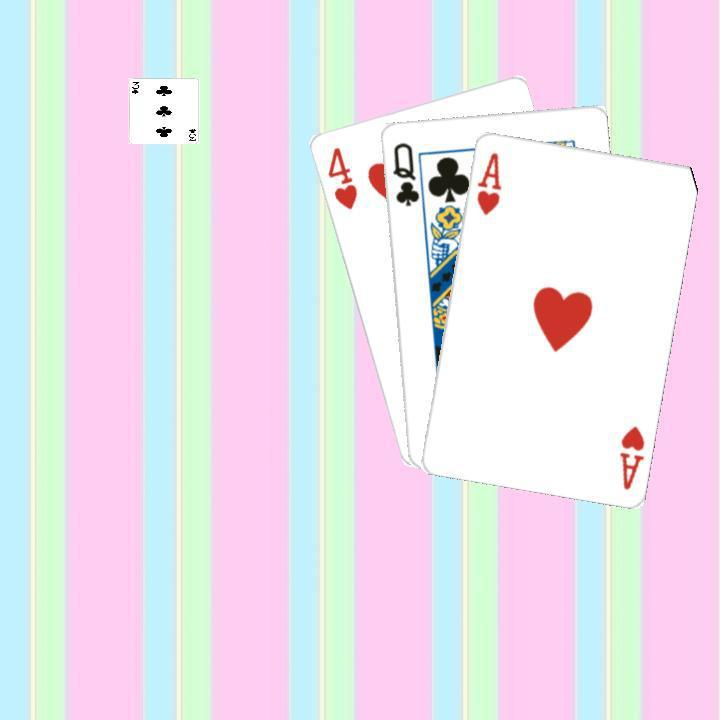4: (322, 142, 359, 211)
A: (471, 147, 504, 217), (614, 421, 647, 491)
Q: (388, 138, 421, 208)
